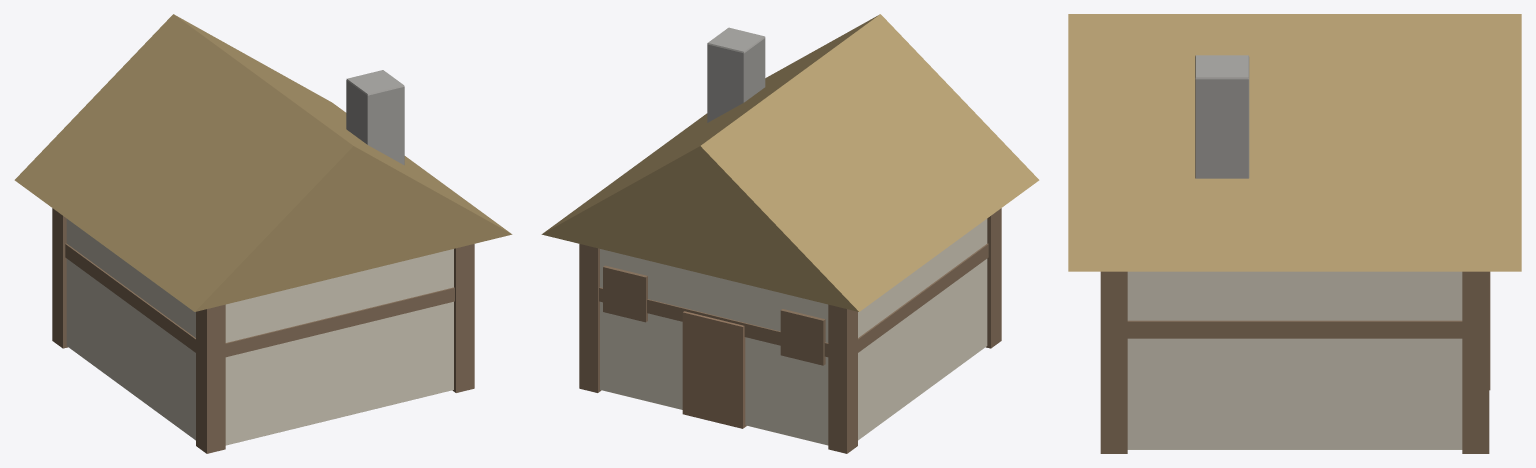
Rendered from house.glb.
3 views of the same model, side by side, from view 1: azimuth 30°, elevation 25°; view 2: azimuth 150°, elevation 25°; view 3: azimuth 270°, elevation 25° (orthographic). The views are drawn at different scales.
Parts seen in each view (by area): view 1: House; view 2: House; view 3: House.
Boxes of the visible parts, left/top/right/bottom form: House: left=14, top=14, right=512, bottom=453; House: left=541, top=14, right=1039, bottom=453; House: left=1068, top=14, right=1521, bottom=453.
Bounding box in the file's own units: 2.22 × 1.9 × 2.18.
